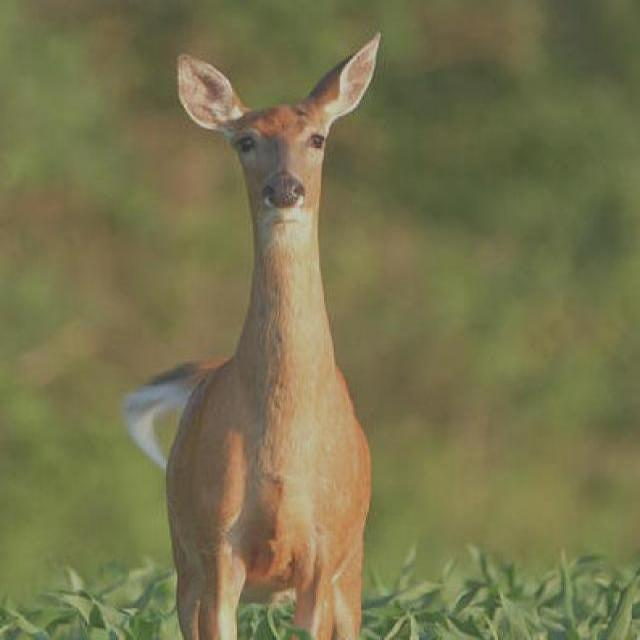deer: (130, 37, 372, 630)
